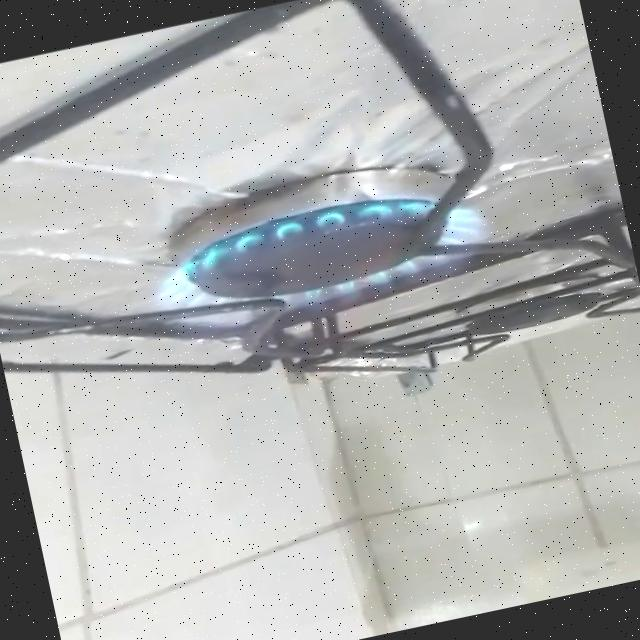fire: (125, 166, 520, 371)
